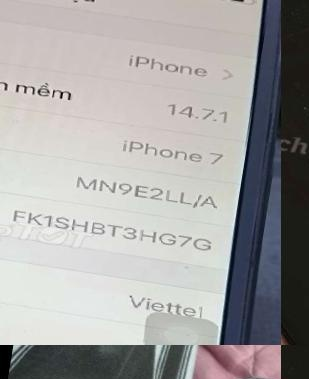scratch: (281, 0, 309, 65), (287, 92, 309, 142)
